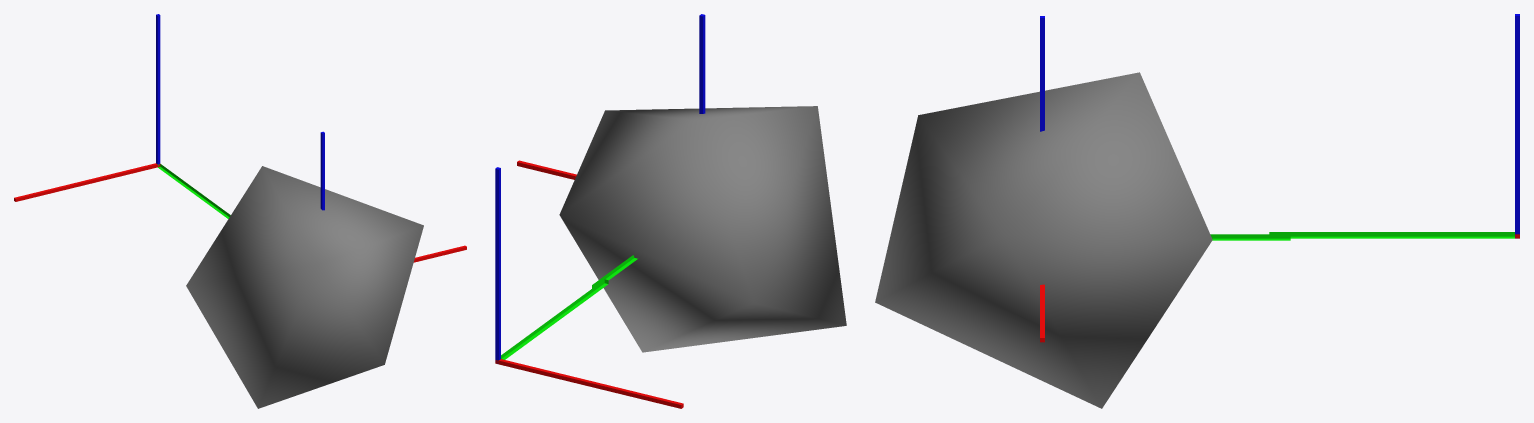
The model's file is petrobolos-c.glb.
The picture shows the model from 3 angles, left to right: view 1: azimuth 30°, elevation 25°; view 2: azimuth 150°, elevation 25°; view 3: azimuth 270°, elevation 25°; orthographic projection. The views are drawn at different scales.
Visible parts, largest first — view 1: petro-cModel, Dummy_fire, Dummy_hotspot; view 2: petro-cModel, Dummy_fire, Dummy_hotspot; view 3: petro-cModel, Dummy_fire, Dummy_hotspot.
Boxes of the visible parts, box(x1,y1,x2,y2) form: petro-cModel: box(186, 166, 423, 408); Dummy_fire: box(14, 14, 230, 218); Dummy_hotspot: box(320, 131, 466, 262); petro-cModel: box(559, 106, 846, 352); Dummy_fire: box(495, 167, 683, 408); Dummy_hotspot: box(517, 14, 705, 288); petro-cModel: box(875, 72, 1212, 408); Dummy_fire: box(1269, 14, 1519, 238); Dummy_hotspot: box(1040, 16, 1290, 342).
Size of the model in its own units: 0.5 by 0.4189 by 0.6564.
2 materials, 1 textured.
